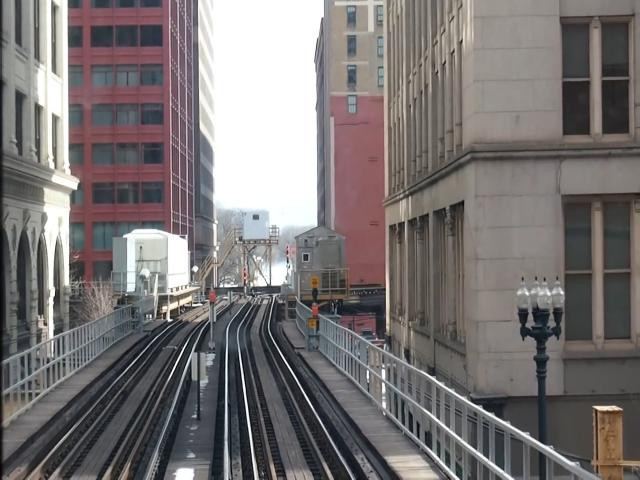signal light: (287, 245, 292, 267), (244, 266, 249, 285)
